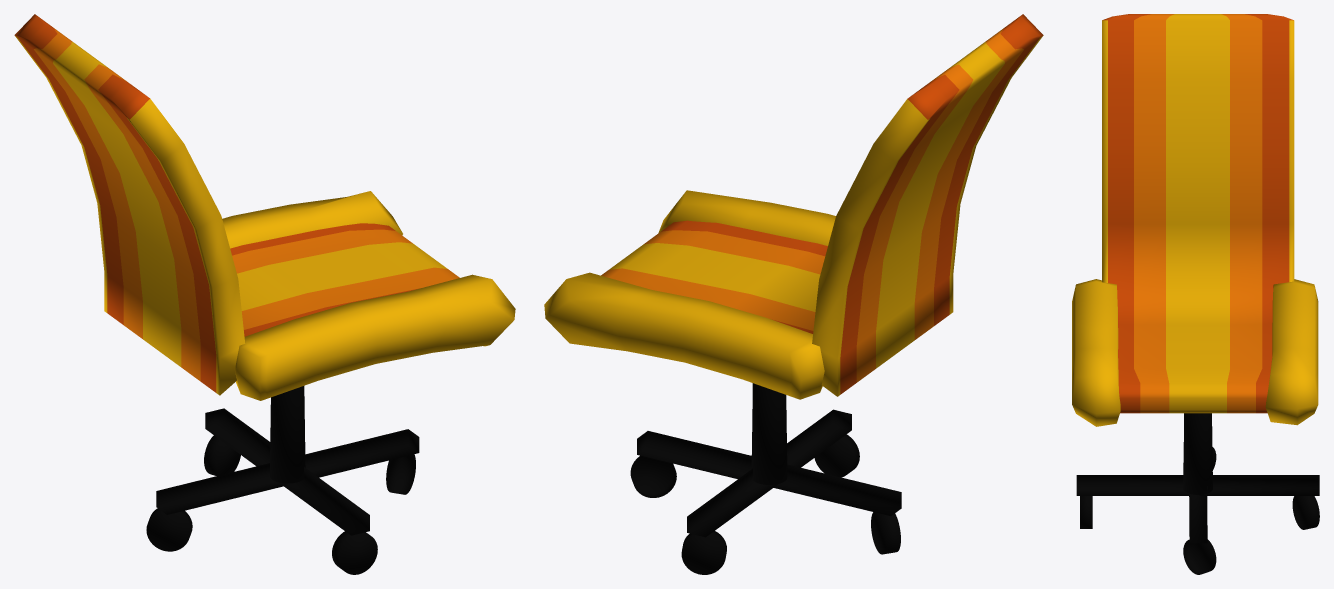
3 views of the same model, side by side, from view 1: azimuth 30°, elevation 25°; view 2: azimuth 150°, elevation 25°; view 3: azimuth 270°, elevation 25° (orthographic). The views are drawn at different scales.
Parts seen in each view (by area): view 1: Cube; view 2: Cube; view 3: Cube.
Boxes of the visible parts, x1,y1,x2,y2 form: Cube: [14, 14, 515, 574]; Cube: [544, 14, 1043, 574]; Cube: [1072, 14, 1319, 574].
Size of the model in its own units: 384 by 495 by 258.
